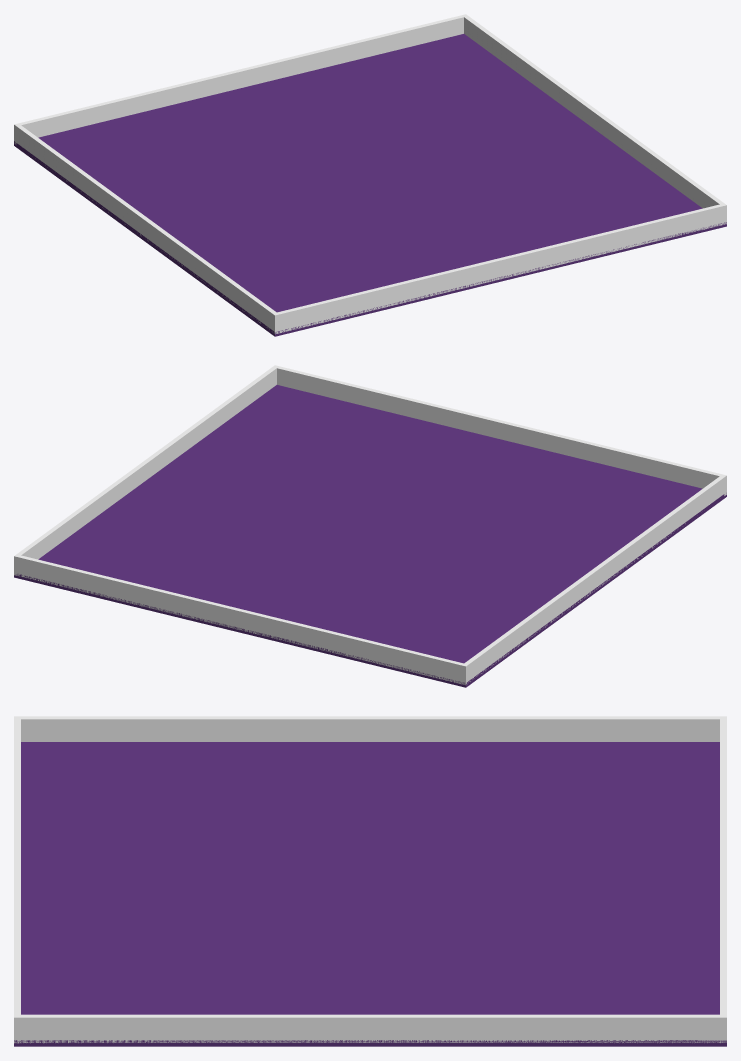
Rendered from square.glb.
The picture shows the model from 3 angles, top to bottom: view 1: azimuth 30°, elevation 25°; view 2: azimuth 150°, elevation 25°; view 3: azimuth 270°, elevation 25°; orthographic projection. The views are drawn at different scales.
Visible parts, largest first — view 1: Box (×5); view 2: Box (×5); view 3: Box (×5).
Part boxes in pixels (x1,y1,x2,y2): Box (×5): [14, 14, 726, 336]; Box (×5): [14, 365, 726, 687]; Box (×5): [14, 716, 726, 1046].
Bounding box in the file's own units: 10 × 0.45 × 10.
